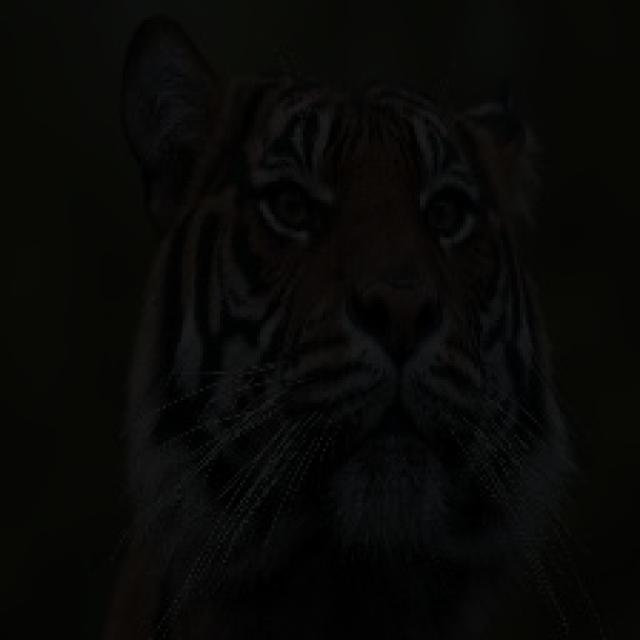animal: (150, 37, 602, 615)
